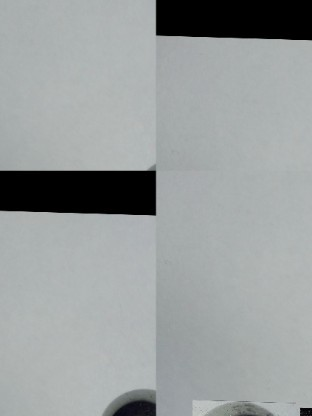ironball: (192, 399, 296, 415)
